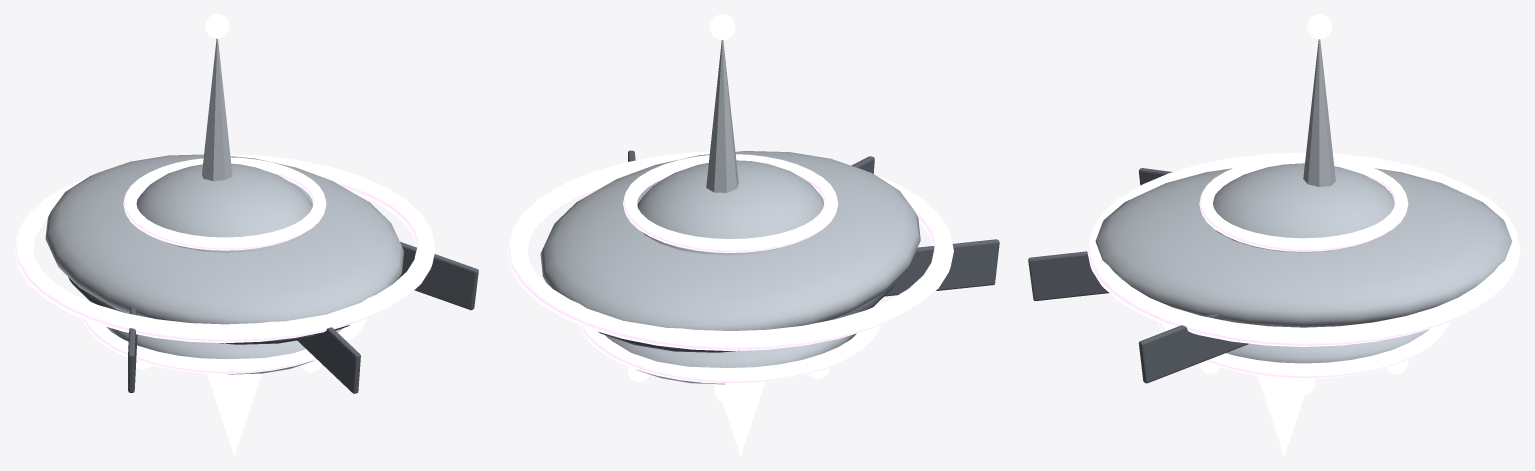
The model's file is ill_dreadnought.glb.
3 views of the same model, side by side, from view 1: azimuth 30°, elevation 25°; view 2: azimuth 150°, elevation 25°; view 3: azimuth 270°, elevation 25° (orthographic). The views are drawn at different scales.
Parts seen in each view (by area): view 1: saucer, ring, dome, dome_ring, ring2, saucer2, fin_0, spire, fin_1, crystal, saucer_bottom, fin_2 (+1 smaller); view 2: saucer, ring, dome, dome_ring, ring2, saucer2, fin_2, spire, crystal, saucer_bottom, spire_tip; view 3: saucer, ring, dome, dome_ring, ring2, fin_0, fin_1, saucer2, spire, crystal, spire_tip.
Part boxes in pixels (left/top/right/bottom): saucer: left=45, top=154, right=404, bottom=324; ring: left=14, top=154, right=435, bottom=343; dome: left=136, top=163, right=312, bottom=252; dome_ring: left=123, top=157, right=326, bottom=250; ring2: left=82, top=296, right=367, bottom=374; saucer2: left=106, top=326, right=342, bottom=374; fin_0: left=399, top=241, right=478, bottom=310; spire: left=202, top=38, right=232, bottom=181; fin_1: left=297, top=327, right=360, bottom=393; crystal: left=207, top=373, right=261, bottom=456; saucer_bottom: left=68, top=277, right=349, bottom=344; fin_2: left=128, top=307, right=137, bottom=392; saucer: left=540, top=151, right=920, bottom=330; ring: left=507, top=151, right=953, bottom=350; dome: left=637, top=160, right=823, bottom=255; dome_ring: left=623, top=154, right=838, bottom=252; ring2: left=580, top=301, right=881, bottom=383; saucer2: left=605, top=333, right=856, bottom=384; fin_2: left=884, top=239, right=999, bottom=296; spire: left=706, top=40, right=738, bottom=192; crystal: left=723, top=382, right=765, bottom=456; saucer_bottom: left=598, top=281, right=896, bottom=352; spire_tip: left=709, top=14, right=735, bottom=39; saucer: left=1095, top=168, right=1511, bottom=327; ring: left=1087, top=152, right=1520, bottom=346; dome: left=1213, top=163, right=1394, bottom=252; dome_ring: left=1199, top=155, right=1408, bottom=251; ring2: left=1157, top=321, right=1449, bottom=378; fin_0: left=1138, top=312, right=1249, bottom=383; fin_1: left=1028, top=251, right=1108, bottom=300; saucer2: left=1226, top=329, right=1429, bottom=363; spire: left=1303, top=39, right=1335, bottom=187; crystal: left=1257, top=375, right=1304, bottom=456; spire_tip: left=1306, top=14, right=1331, bottom=39.
Bounding box in the file's own units: 0.2886 × 0.3244 × 0.3277.
